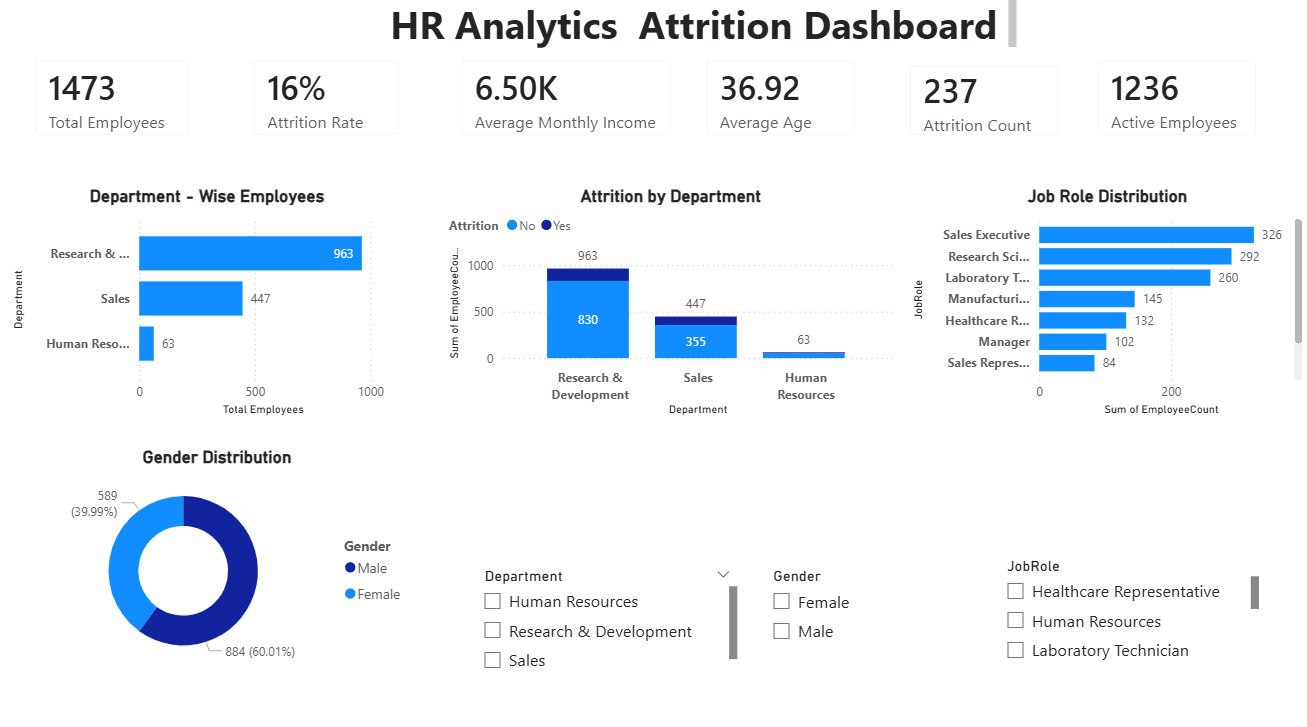

What the dashboard file says about the page in this screenshot:
{"tool":"powerbi","page":{"name":"Executive  Dashboard","canvas":[1280,720],"ordinal":0},"visuals":[{"type":"cardVisual","fields":{"Data":["HR_Analytics_Cleaned.Total Employees"]},"box":[18.3,48.9,185.9,107.6],"z":0},{"type":"cardVisual","fields":{"Data":["HR_Analytics_Cleaned.Attrition Count"]},"box":[874.3,53.8,179.8,102.7],"z":1000},{"type":"cardVisual","fields":{"Data":["HR_Analytics_Cleaned.Active Employees"]},"box":[1057.8,48.9,189.5,107.6],"z":2000},{"type":"cardVisual","fields":{"Data":["HR_Analytics_Cleaned.Attrition Rate"]},"box":[232.3,48.9,176.1,107.6],"z":3000},{"type":"cardVisual","fields":{"Data":["HR_Analytics_Cleaned.Average Income"]},"box":[435.3,48.9,239.7,107.6],"z":4000},{"type":"cardVisual","fields":{"Data":["HR_Analytics_Cleaned.Average Age"]},"box":[675,48.9,179.8,107.6],"z":5000},{"type":"clusteredBarChart","title":"Department - Wise Employees","fields":{"Category":["HR_Analytics_Cleaned.Department"],"Y":["HR_Analytics_Cleaned.Total Employees"]},"box":[8.6,188.3,390.1,229.9],"z":6000},{"type":"columnChart","title":"Attrition by Department","fields":{"Series":["HR_Analytics_Cleaned.Attrition"],"Category":["HR_Analytics_Cleaned.Department"],"Y":["Sum(HR_Analytics_Cleaned.EmployeeCount)"]},"box":[435.3,188.3,443.9,229.9],"z":7000},{"type":"clusteredBarChart","title":"Job Role Distribution","fields":{"Category":["HR_Analytics_Cleaned.JobRole"],"Y":["Sum(HR_Analytics_Cleaned.EmployeeCount)"]},"box":[889,188.3,391.3,229.9],"z":8000},{"type":"donutChart","title":"Gender Distribution","fields":{"Category":["HR_Analytics_Cleaned.Gender"],"Y":["Sum(HR_Analytics_Cleaned.EmployeeCount)"]},"box":[18.3,443.9,390.1,223.8],"z":9000},{"type":"textbox","box":[377.9,0,622.4,58.7],"z":10000},{"type":"slicer","fields":{"Values":["HR_Analytics_Cleaned.Department"]},"box":[462.2,556.4,265.4,112.5],"z":11000},{"type":"slicer","fields":{"Values":["HR_Analytics_Cleaned.Gender"]},"box":[744.7,556.4,218.9,112.5],"z":12000},{"type":"slicer","fields":{"Values":["HR_Analytics_Cleaned.JobRole"]},"box":[973.4,546.6,264.1,121.1],"z":13000}]}

Visuals, with their boxes in screenshot pixels (x1, y1, x2, y2), scaled from the page's 1280x720 canvas onto the 1307x727 screenshot:
cardVisual - HR_Analytics_Cleaned.Total Employees: 19, 49, 209, 158
cardVisual - HR_Analytics_Cleaned.Attrition Count: 893, 54, 1076, 158
cardVisual - HR_Analytics_Cleaned.Active Employees: 1080, 49, 1274, 158
cardVisual - HR_Analytics_Cleaned.Attrition Rate: 237, 49, 417, 158
cardVisual - HR_Analytics_Cleaned.Average Income: 444, 49, 689, 158
cardVisual - HR_Analytics_Cleaned.Average Age: 689, 49, 873, 158
"Department - Wise Employees" clusteredBarChart: 9, 190, 407, 422
"Attrition by Department" columnChart: 444, 190, 898, 422
"Job Role Distribution" clusteredBarChart: 908, 190, 1306, 422
"Gender Distribution" donutChart: 19, 448, 417, 674
textbox: 386, 0, 1021, 59
slicer - HR_Analytics_Cleaned.Department: 472, 562, 743, 675
slicer - HR_Analytics_Cleaned.Gender: 760, 562, 984, 675
slicer - HR_Analytics_Cleaned.JobRole: 994, 552, 1264, 674
